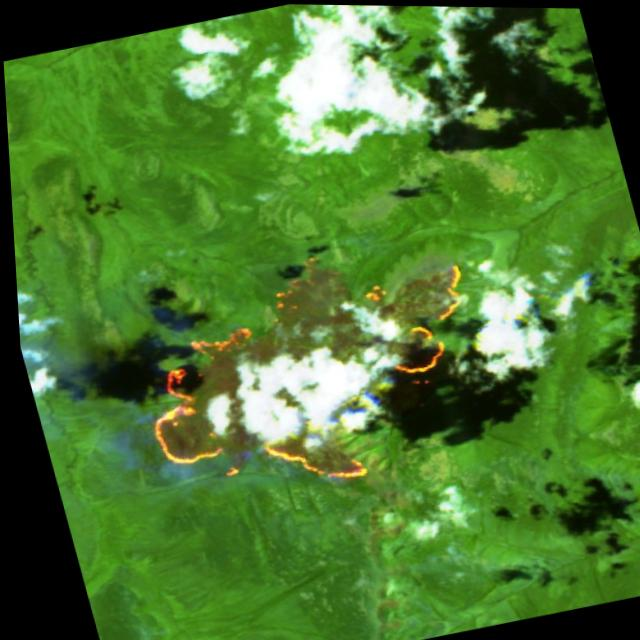fire: (103, 215, 516, 524)
